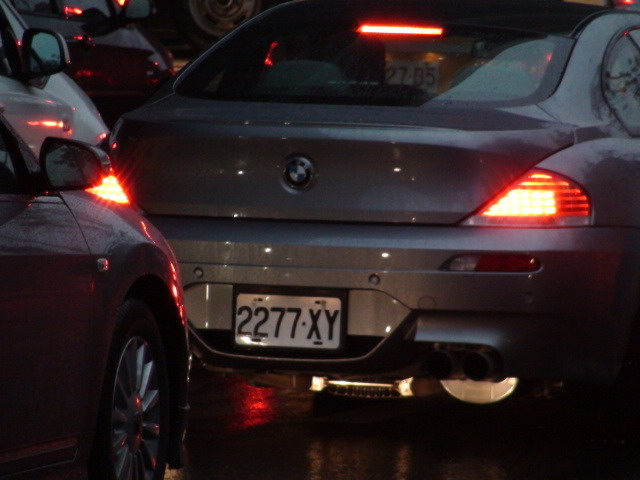plate: (229, 287, 345, 352)
